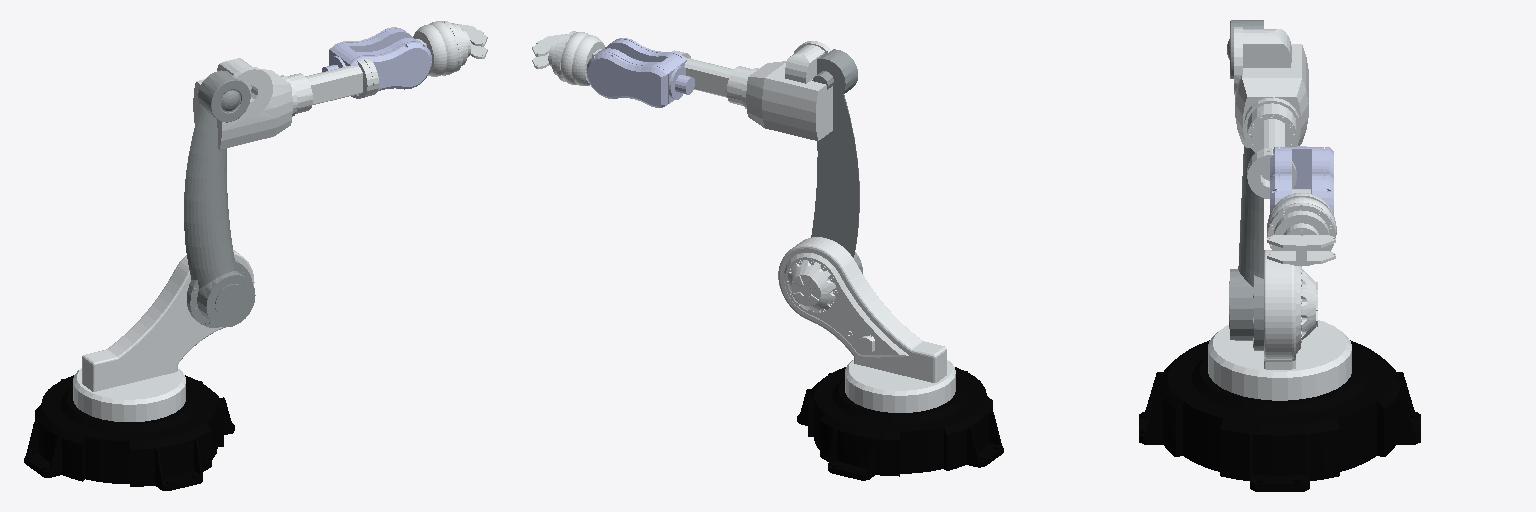
robot.urdf — dof6arm:
<?xml version="1.0" encoding="utf-8"?>
<!-- This URDF was automatically created by SolidWorks to URDF Exporter! Originally created by Stephen Brawner (brawner@gmail.com) 
     Commit Version: 1.6.0-4-g7f85cfe  Build Version: 1.6.7995.38578
     For more information, please see http://wiki.ros.org/sw_urdf_exporter -->
<robot
  name="dof6arm">

  <link name="world_rviz"/>

  <link
    name="base_link">
    <inertial>
      <origin
        xyz="-4.0864E-17 5.9406E-17 0.039627"
        rpy="0 0 0" />
      <mass
        value="5.5104" />
      <inertia
        ixx="0.032533"
        ixy="-5.673E-17"
        ixz="6.6064E-18"
        iyy="0.032533"
        iyz="2.006E-18"
        izz="0.058905" />
    </inertial>
    <visual>
      <origin
        xyz="0 0 0"
        rpy="0 0 0" />
      <geometry>
        <mesh
          filename="package://dof6arm/meshes/base_link.STL" />
      </geometry>
      <material
        name="">
        <color
          rgba="0.058824 0.058824 0.058824 1" />
      </material>
    </visual>
    <collision>
      <origin
        xyz="0 0 0"
        rpy="0 0 0" />
      <geometry>
        <mesh
          filename="package://dof6arm/meshes/base_link.STL" />
      </geometry>
    </collision>
  </link>

  <joint name="world_joint" type="fixed">
    <parent link="world_rviz"/>
    <child link="base_link"/>
    <origin xyz="0 0 0" rpy="0 0 -1.5708"/>
  </joint>


  <link
    name="link1">
    <inertial>
      <origin
        xyz="0.0563146133187169 0.00239652717597299 0.0813964976165743"
        rpy="0 0 0" />
      <mass
        value="2.25493378297323" />
      <inertia
        ixx="0.011607639577804"
        ixy="-0.000401687438060295"
        ixz="-0.00887971625811838"
        iyy="0.0231563698921059"
        iyz="-0.000351050031071559"
        izz="0.0158798775719755" />
    </inertial>
    <visual>
      <origin
        xyz="0 0 0"
        rpy="0 0 0" />
      <geometry>
        <mesh
          filename="package://dof6arm/meshes/link1.STL" />
      </geometry>
      <material
        name="">
        <color
          rgba="0.898039215686275 0.917647058823529 0.929411764705882 1" />
      </material>
    </visual>
    <collision>
      <origin
        xyz="0 0 0"
        rpy="0 0 0" />
      <geometry>
        <mesh
          filename="package://dof6arm/meshes/link1.STL" />
      </geometry>
    </collision>
  </link>
  <joint
    name="joint1"
    type="revolute">
    <origin
      xyz="0 0 0.085"
      rpy="0 0 1.5708" />
    <parent
      link="base_link" />
    <child
      link="link1" />
    <axis
      xyz="0 0 1" />
    <limit
      lower="-3.14"
      upper="3.14"
      effort="200"
      velocity="10" />
  </joint>
  <link
    name="link2">
    <inertial>
      <origin
        xyz="-0.00806034777883224 0.142663588040641 0.015222810563985"
        rpy="0 0 0" />
      <mass
        value="0.920714229759599" />
      <inertia
        ixx="0.0178612448022285"
        ixy="0.00015240648671748"
        ixz="-3.03747804024019E-05"
        iyy="0.000614865169369136"
        iyz="7.16300104564684E-05"
        izz="0.0182052343067563" />
    </inertial>
    <visual>
      <origin
        xyz="0 0 0"
        rpy="0 0 0" />
      <geometry>
        <mesh
          filename="package://dof6arm/meshes/link2.STL" />
      </geometry>
      <material
        name="">
        <color
          rgba="0.63921568627451 0.666666666666667 0.67843137254902 1" />
      </material>
    </visual>
    <collision>
      <origin
        xyz="0 0 0"
        rpy="0 0 0" />
      <geometry>
        <mesh
          filename="package://dof6arm/meshes/link2.STL" />
      </geometry>
    </collision>
  </link>
  <joint
    name="joint2"
    type="revolute">
    <origin
      xyz="0.15 -0.02 0.16"
      rpy="1.5708 0 0" />
    <parent
      link="link1" />
    <child
      link="link2" />
    <axis
      xyz="0 0 1" />
    <limit
      lower="-1.57"
      upper="1.57"
      effort="200"
      velocity="10" />
  </joint>
  <link
    name="link3">
    <inertial>
      <origin
        xyz="-0.0399152602038644 -0.0446167070292327 -0.0460373494010405"
        rpy="0 0 0" />
      <mass
        value="1.43145554418529" />
      <inertia
        ixx="0.00807676591024907"
        ixy="-0.000324747907195901"
        ixz="-0.000112859910370775"
        iyy="0.00186636959248532"
        iyz="-9.341394228171E-05"
        izz="0.00844554620214213" />
    </inertial>
    <visual>
      <origin
        xyz="0 0 0"
        rpy="0 0 0" />
      <geometry>
        <mesh
          filename="package://dof6arm/meshes/link3.STL" />
      </geometry>
      <material
        name="">
        <color
          rgba="0.898039215686275 0.917647058823529 0.929411764705882 1" />
      </material>
    </visual>
    <collision>
      <origin
        xyz="0 0 0"
        rpy="0 0 0" />
      <geometry>
        <mesh
          filename="package://dof6arm/meshes/link3.STL" />
      </geometry>
    </collision>
  </link>
  <joint
    name="joint3"
    type="revolute">
    <origin
      xyz="0 0.35 0"
      rpy="0 0 1.5708" />
    <parent
      link="link2" />
    <child
      link="link3" />
    <axis
      xyz="0 0 1" />
    <limit
      lower="-3.14"
      upper="1.57"
      effort="200"
      velocity="10" />
  </joint>
  <link
    name="link4">
    <inertial>
      <origin
        xyz="0 -9.99200722162641E-16 0.065964889335451"
        rpy="0 0 0" />
      <mass
        value="0.581435273248315" />
      <inertia
        ixx="0.00158017066215487"
        ixy="2.44381629558985E-10"
        ixz="-7.35582035514334E-19"
        iyy="0.0014063460239573"
        iyz="-1.03875614714129E-18"
        izz="0.000596523986913166" />
    </inertial>
    <visual>
      <origin
        xyz="0 0 0"
        rpy="0 0 0" />
      <geometry>
        <mesh
          filename="package://dof6arm/meshes/link4.STL" />
      </geometry>
      <material
        name="">
        <color
          rgba="0.792156862745098 0.819607843137255 0.933333333333333 1" />
      </material>
    </visual>
    <collision>
      <origin
        xyz="0 0 0"
        rpy="0 0 0" />
      <geometry>
        <mesh
          filename="package://dof6arm/meshes/link4.STL" />
      </geometry>
    </collision>
  </link>
  <joint
    name="joint4"
    type="revolute">
    <origin
      xyz="-0.045 -0.251 -0.0475"
      rpy="1.5708 0 0" />
    <parent
      link="link3" />
    <child
      link="link4" />
    <axis
      xyz="0 0 1" />
    <limit
      lower="-3.14"
      upper="3.14"
      effort="200"
      velocity="10" />
  </joint>
  <link
    name="link5">
    <inertial>
      <origin
        xyz="-1.11022302462516E-16 -0.0589618551287788 0.00017831823908418"
        rpy="0 0 0" />
      <mass
        value="0.339144547925522" />
      <inertia
        ixx="0.000355541202477726"
        ixy="-7.6745270608399E-22"
        ixz="-3.2011026778204E-23"
        iyy="0.000248853470602005"
        iyz="-3.56575702010573E-06"
        izz="0.000358769992191287" />
    </inertial>
    <visual>
      <origin
        xyz="0 0 0"
        rpy="0 0 0" />
      <geometry>
        <mesh
          filename="package://dof6arm/meshes/link5.STL" />
      </geometry>
      <material
        name="">
        <color
          rgba="0.898039215686275 0.917647058823529 0.929411764705882 1" />
      </material>
    </visual>
    <collision>
      <origin
        xyz="0 0 0"
        rpy="0 0 0" />
      <geometry>
        <mesh
          filename="package://dof6arm/meshes/link5.STL" />
      </geometry>
    </collision>
  </link>
  <joint
    name="joint5"
    type="revolute">
    <origin
      xyz="0 0.0005 0.11"
      rpy="-1.5708 0 0" />
    <parent
      link="link4" />
    <child
      link="link5" />
    <axis
      xyz="0 0 1" />
    <limit
      lower="-1.57"
      upper="1.57"
      effort="200"
      velocity="10" />
  </joint>
  <link
    name="link6">
    <inertial>
      <origin
        xyz="0 -1.17961196366423E-15 0.00628470620704225"
        rpy="0 0 0" />
      <mass
        value="0.0762574810565132" />
      <inertia
        ixx="3.79559798700621E-05"
        ixy="-5.78032232262219E-21"
        ixz="5.98732041747797E-22"
        iyy="3.20288004196063E-05"
        iyz="2.81145560238281E-20"
        izz="3.99525744954328E-05" />
    </inertial>
    <visual>
      <origin
        xyz="0 0 0"
        rpy="0 0 0" />
      <geometry>
        <mesh
          filename="package://dof6arm/meshes/link6.STL" />
      </geometry>
      <material
        name="">
        <color
          rgba="0.898039215686275 0.917647058823529 0.929411764705882 1" />
      </material>
    </visual>
    <collision>
      <origin
        xyz="0 0 0"
        rpy="0 0 0" />
      <geometry>
        <mesh
          filename="package://dof6arm/meshes/link6.STL" />
      </geometry>
    </collision>
  </link>
  <joint
    name="joint6"
    type="revolute">
    <origin
      xyz="0 -0.104 0"
      rpy="1.5708 0 0" />
    <parent
      link="link5" />
    <child
      link="link6" />
    <axis
      xyz="0 0 1" />
    <limit
      lower="-3.14"
      upper="3.14"
      effort="200"
      velocity="10" />
  </joint>
  <link
    name="endfector">
    <inertial>
      <origin
        xyz="1.11022302462516E-16 -1.12410081243297E-15 -0.0393199974870748"
        rpy="0 0 0" />
      <mass
        value="0.0762574810565132" />
      <inertia
        ixx="3.79559798700621E-05"
        ixy="-3.43785535520926E-21"
        ixz="1.43016355725182E-22"
        iyy="3.20288004196063E-05"
        iyz="4.99890516382123E-21"
        izz="3.99525744954328E-05" />
    </inertial>
    <visual>
      <origin
        xyz="0 0 0"
        rpy="0 0 0" />
      <geometry>
        <mesh
          filename="package://dof6arm/meshes/endfector.STL" />
      </geometry>
      <material
        name="">
        <color
          rgba="0.898039215686275 0.917647058823529 0.929411764705882 1" />
      </material>
    </visual>
    <collision>
      <origin
        xyz="0 0 0"
        rpy="0 0 0" />
      <geometry>
        <mesh
          filename="package://dof6arm/meshes/endfector.STL" />
      </geometry>
    </collision>
  </link>
  <joint
    name="joint7"
    type="fixed">
    <origin
      xyz="0 0 0.045605"
      rpy="0 0 0" />
    <parent
      link="link6" />
    <child
      link="endfector" />
    <axis
      xyz="0 0 0" />
  </joint>

</robot>

--- Render facts (derived) ---
3 views of the same robot in one strip: view 1: azimuth 30°, elevation 25°; view 2: azimuth 150°, elevation 25°; view 3: azimuth 270°, elevation 25° (orthographic).
Robot: dof6arm — 9 links, 8 joints (6 revolute, 2 fixed); root link world_rviz; default pose: every joint at zero.
Visible links, largest first — view 1: base_link, link2, link1, link3, link4, link5, link6; view 2: link1, base_link, link3, link2, link4, link5, link6; view 3: base_link, link1, link3, link2, link4, link6, link5.
Boxes of the visible links, x1,y1,x2,y2 form: base_link: (24, 375, 234, 490); link2: (184, 70, 255, 327); link1: (73, 250, 254, 421); link3: (193, 58, 378, 149); link4: (322, 27, 431, 98); link5: (413, 21, 462, 76); link6: (451, 23, 487, 65); link1: (778, 237, 955, 412); base_link: (797, 367, 1003, 480); link3: (672, 41, 832, 140); link2: (811, 49, 862, 273); link4: (586, 38, 694, 107); link5: (557, 31, 604, 85); link6: (532, 34, 567, 75); base_link: (1139, 340, 1420, 491); link1: (1208, 250, 1351, 400); link3: (1234, 27, 1308, 198); link2: (1227, 20, 1263, 350); link4: (1270, 146, 1333, 213); link6: (1267, 212, 1335, 265); link5: (1267, 189, 1336, 266).
Bounding box of the posed robot: 0.8356 × 0.35 × 0.6394 m (x, y, z).
8 mesh visuals loaded from 8 distinct referenced files (8 binary STL).
